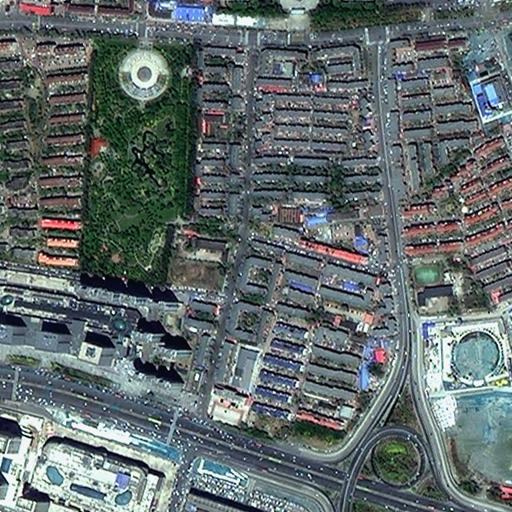school: (160, 231, 231, 296), (404, 259, 463, 317)
